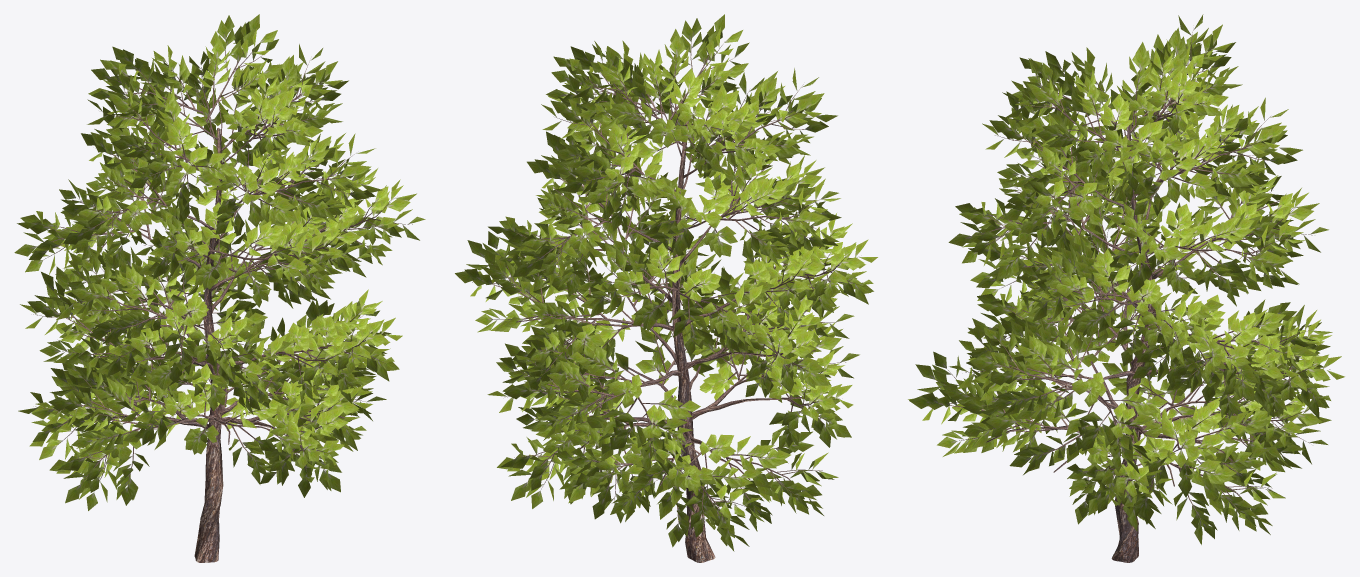
The model's file is maple.fbx.
3 renders of one model, left to right at view 1: azimuth 30°, elevation 25°; view 2: azimuth 150°, elevation 25°; view 3: azimuth 270°, elevation 25°, orthographic. The views are drawn at different scales.
Visible parts, largest first — view 1: Tree_1, Tree_0; view 2: Tree_1, Tree_0; view 3: Tree_1, Tree_0.
Part boxes in pixels (x1,y1,x2,y2): Tree_1: [14, 14, 425, 510]; Tree_0: [33, 40, 412, 562]; Tree_1: [455, 14, 877, 551]; Tree_0: [472, 42, 860, 562]; Tree_1: [908, 14, 1344, 544]; Tree_0: [927, 30, 1330, 562].
Bounding box in the file's own units: 70.2 × 94.08 × 70.95.
Materials: 2 (2 with a texture image).
